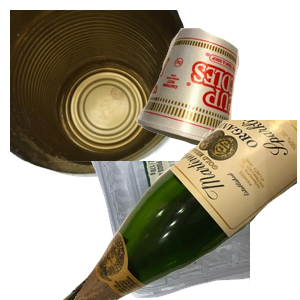glass: (60, 120, 300, 300)
metal: (10, 10, 200, 180)
plastic: (23, 161, 263, 300)
trash: (133, 25, 300, 167)
